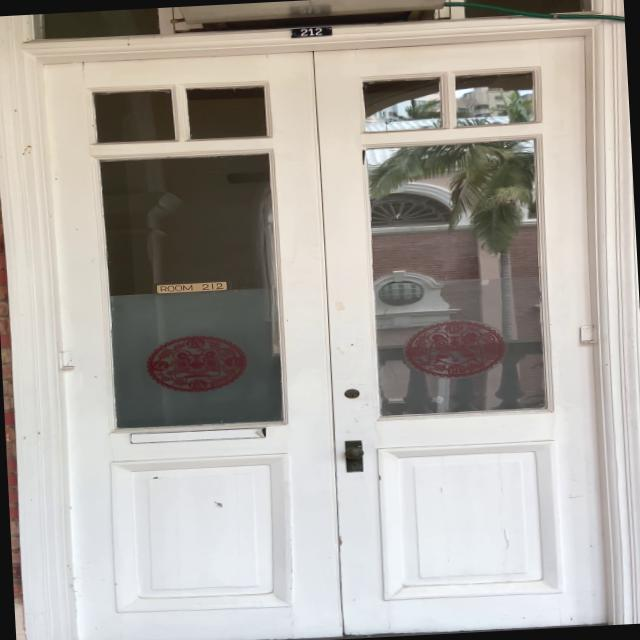room212: (285, 24, 337, 40)
room212Window: (150, 277, 234, 296)
